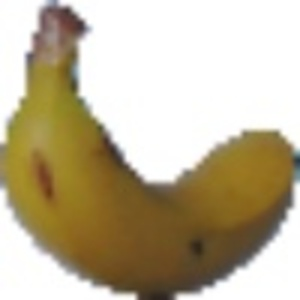banana: (1, 8, 296, 294)
